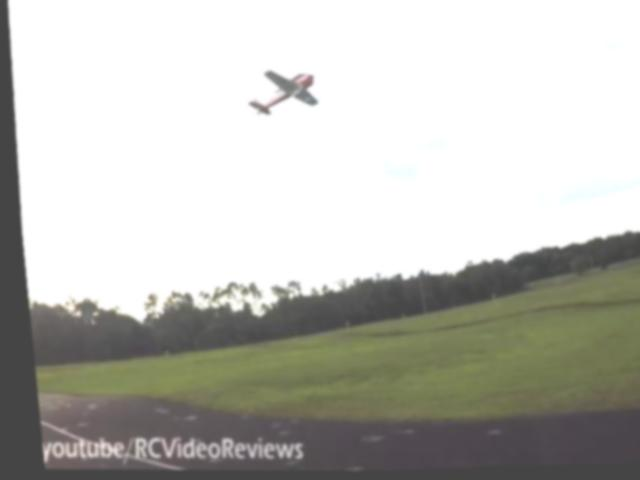uav: (235, 59, 325, 135)
